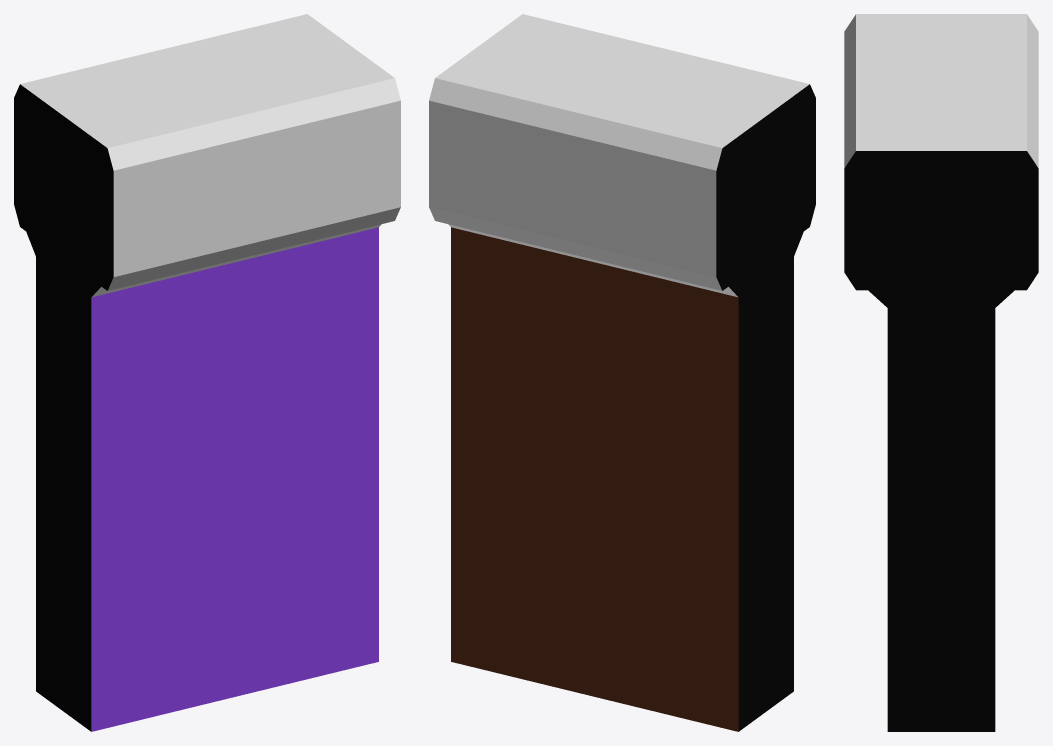
Rendered from Wall.fbx.
3 views of the same model, side by side, from view 1: azimuth 30°, elevation 25°; view 2: azimuth 150°, elevation 25°; view 3: azimuth 270°, elevation 25° (orthographic). The views are drawn at different scales.
Visible parts, largest first — view 1: Wall; view 2: Wall; view 3: Wall.
Boxes of the visible parts, bbox=[...] form: Wall: bbox=[14, 14, 400, 731]; Wall: bbox=[429, 14, 815, 731]; Wall: bbox=[844, 14, 1038, 731].
Bounding box in the file's own units: 100 × 198 × 60.
